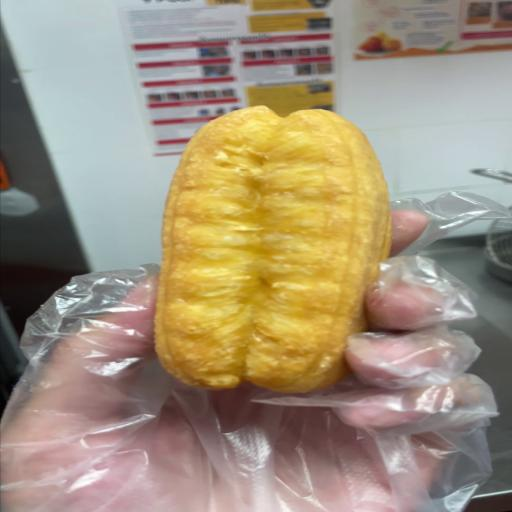brand_golden_good: (155, 106, 391, 392)
